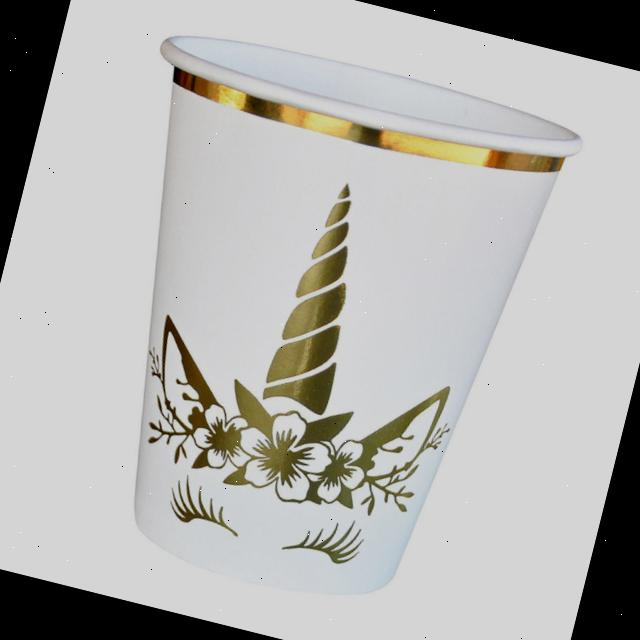trash: (23, 0, 634, 640)
